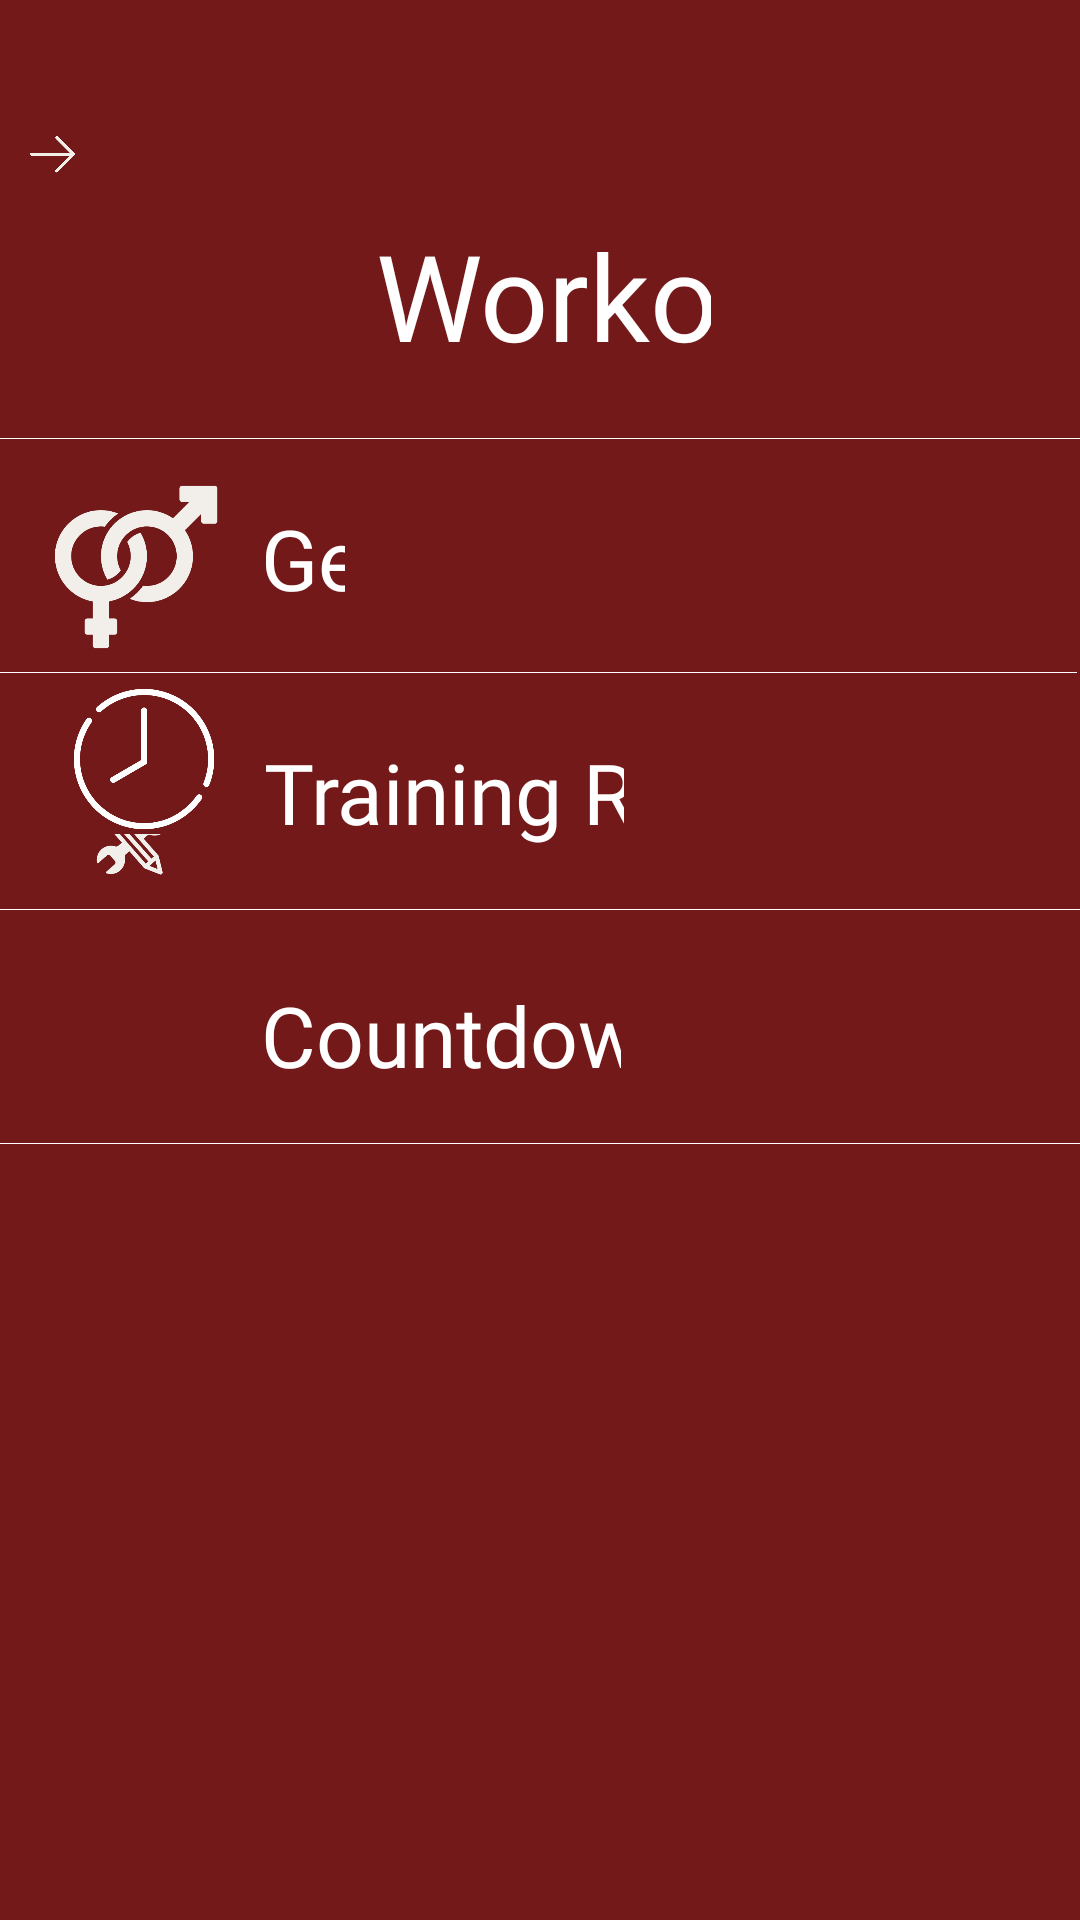

Icon bounding boxes for this 1080px×1920px phone screenshot, format detection(x1, y1, x2, y2):
clock: detection(74, 689, 214, 829)
